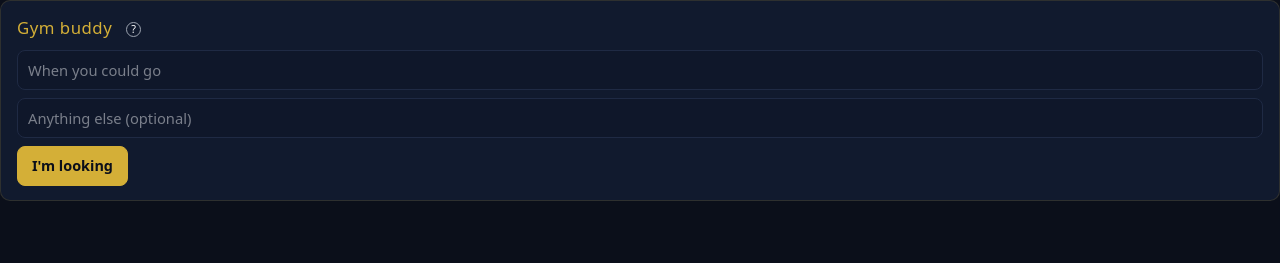
GymBuddy › starts looking with when you could go, then lists connections looking too
In the field labelled "When you could go": (640, 70) [17, 50, 1263, 90], type " mornings "
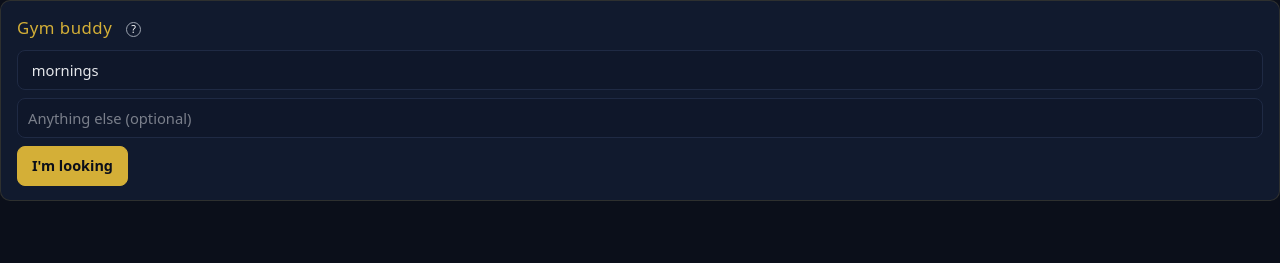
Click the button "I'm looking": (72, 166) [17, 146, 128, 186]
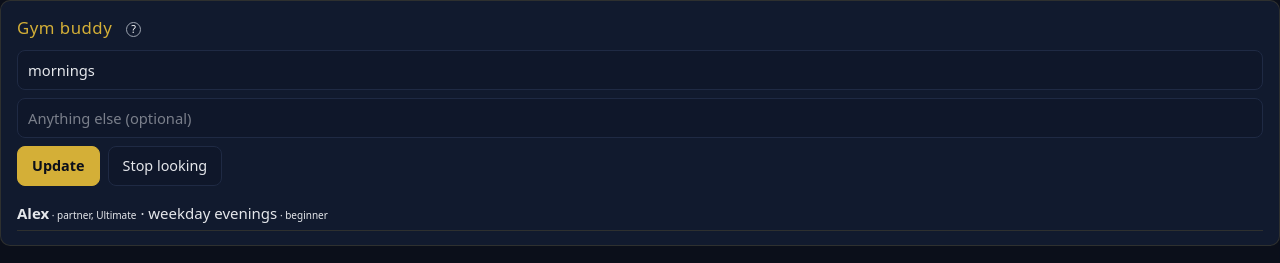
Now the list item reads "Alex · partner, Ultimate · weekday evenings · beginner", box [17, 196, 1263, 232]
